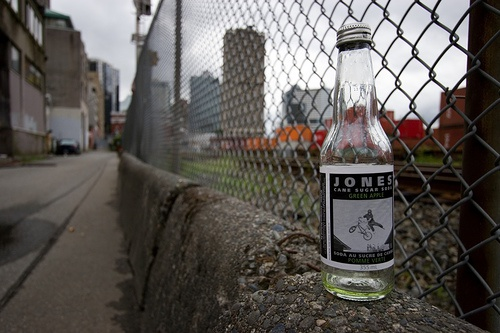emptybottle: (320, 23, 395, 301)
